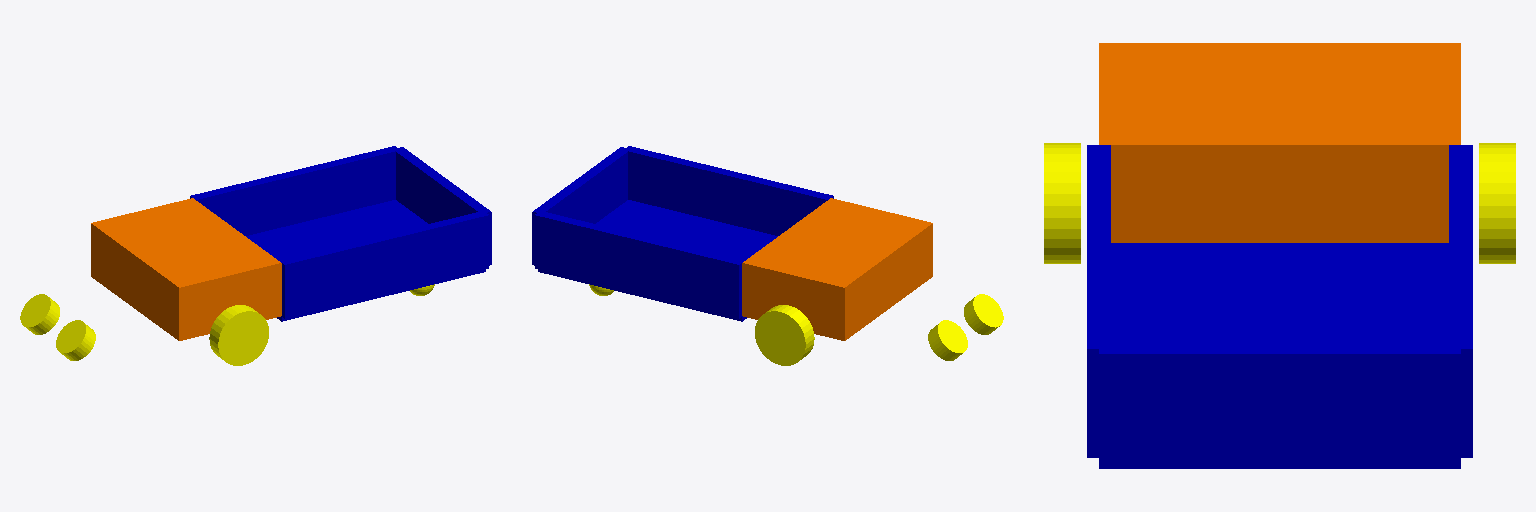
The robot description file, URDF, robot "TRR":
<robot name="TRR">

<!-- ===============================Color============================ -->
  <!-- Orange-->
  <material name="orange">
  <color rgba="1.0 0.5 0.0 1.0"/>
  </material>

  <!-- Blue--> 
  <material name="blue">
    <color rgba="0 0 0.8 1"/>
  </material>

  <!-- Yellow-->
  <material name="yellow">
    <color rgba="1 1 0 1"/>
  </material>

<!-- ===============================Component============================ -->
  <!-- Than -->
  <link name="base_link">
  </link>

  <!-- Khung -->
  <link name="frame_link">
    <visual>
      <geometry>
        <box size="0.2 0.3 0.1"/>
      </geometry>
      <origin xyz="0 0 0" rpy="0.0 0.0 0.0"/>
      <material name="orange"/>
    </visual>
    <inertial>
        <mass value="2.0"/>
        <origin xyz="0.0 0.0 0.0"/>
        <inertia ixx="0.0" ixy="0.0" ixz="0.0" iyy="0.0" iyz="0.0" izz="0.0"/>
    </inertial>
    <collision>
      <geometry>
        <box size="0.2 0.3 0.1"/>
      </geometry>
      <origin xyz="0 0 0" rpy="0.0 0.0 0.0"/>
    </collision>
  </link>

  <!-- Khop noi than - khung -->
  <joint name="base_joint" type="fixed">
      <parent link="base_link"/>
      <child link="frame_link"/>
      <origin xyz="0.0 0.0 0.0" rpy="0.0 0.0 0.0"/>
  </joint>

  <!-- Banh phai truoc-->
  <link name="right_front_wheel_link">
    <visual>
      <geometry>
        <cylinder radius="0.05" length="0.03"/>
      </geometry>
      <origin rpy="0 0 0" xyz="0 0 0"/>
      <material name="yellow"/>
    </visual>
    <inertial>
        <mass value="2.0"/>
        <origin xyz="0.0 0.0 0.0"/>
        <inertia ixx="0.1" ixy="0.0" ixz="0.0" iyy="0.1" iyz="0.0" izz="0.1"/>
    </inertial>
    <collision>
      <geometry>
        <cylinder radius="0.05" length="0.03"/>
      </geometry>
      <origin rpy="0 0 0" xyz="0 0 0"/>
    </collision>
  </link>

  <!-- Khop noi than - banh phai truoc -->
  <joint name="right_front_wheel_joint" type="continuous">
    <parent link="base_link"/>
    <child link="right_front_wheel_link"/>
    <origin rpy="0 1.57075 1.57075" xyz="0 0.18 -0.05"/>
    <axis xyz="0.0 0.0 1.0"/>
  </joint>

  <!-- Banh trai truoc-->
    <link name="left_front_wheel_link">
    <visual>
      <geometry>
        <cylinder radius="0.05" length="0.03"/>
      </geometry>
      <origin rpy="0 0 0" xyz="0 0 0"/>
      <material name="yellow"/>
    </visual>
    <inertial>
        <mass value="5.0"/>
        <origin xyz="0.0 0.0 0.0"/>
        <inertia ixx="0.1" ixy="0.0" ixz="0.0" iyy="0.1" iyz="0.0" izz="0.1"/>
    </inertial>
    <collision>
      <geometry>
        <cylinder radius="0.05" length="0.03"/>
      </geometry>
      <origin rpy="0 0 0" xyz="0 0 0"/>
    </collision>
  </link>

  <!-- Khop noi than - banh trai truoc -->
  <joint name="left_front_wheel_joint" type="continuous">
    <parent link="base_link"/>
    <child link="left_front_wheel_link"/>
    <origin rpy="3.1415 1.57075 1.57075" xyz="0 -0.18 -0.05"/>
    <axis xyz="0.0 0.0 1.0"/>
  </joint>

  <!-- Banh ban phai-->
  <link name="right_shoot_wheel_link">
    <visual>
      <geometry>
        <cylinder radius="0.0325" length="0.027"/>
      </geometry>
      <origin rpy="0 0 0" xyz="0 0 0"/>
      <material name="yellow"/>
    </visual>
    <inertial>
        <mass value="0.2"/>
        <origin xyz="0.0 0.0 0.0"/>
        <inertia ixx="0.1" ixy="0.0" ixz="0.0" iyy="0.1" iyz="0.0" izz="0.1"/>
    </inertial>
    <collision>
      <geometry>
        <cylinder radius="0.0325" length="0.027"/>
      </geometry>
      <origin rpy="0 0 0" xyz="0 0 0"/>
    </collision>
  </link>

    <!-- Khop noi than - banh ban phai-->
  <joint name="right_shoot_wheel_joint" type="continuous">
    <parent link="base_link"/>
    <child link="right_shoot_wheel_link"/>
    <origin rpy="0 -0.785375 0" xyz="-0.25 0.06 -0.05"/>
    <axis xyz="0.0 0.0 1.0"/>
  </joint>

  <!-- Banh ban trai-->
  <link name="left_shoot_wheel_link">
    <visual>
      <geometry>
        <cylinder radius="0.0325" length="0.027"/>
      </geometry>
      <origin rpy="0 0 0" xyz="0 0 0"/>
      <material name="yellow"/>
    </visual>
    <inertial>
        <mass value="0.2"/>
        <origin xyz="0.0 0.0 0.0"/>
        <inertia ixx="0.1" ixy="0.0" ixz="0.0" iyy="0.1" iyz="0.0" izz="0.1"/>
    </inertial>
    <collision>
      <geometry>
        <cylinder radius="0.0325" length="0.027"/>
      </geometry>
      <origin rpy="0 0 0" xyz="0 0 0"/>
    </collision>
  </link>

  <!-- Khop noi than - banh ban trai -->
  <joint name="left_shoot_wheel_joint" type="continuous">
    <parent link="base_link"/>
    <child link="left_shoot_wheel_link"/>
    <origin rpy="3.1415 -0.785375 0" xyz="-0.25 -0.06 -0.05"/>
    <axis xyz="0.0 0.0 1.0"/>
  </joint>

  <!-- De sau -->
  <link name="back_base_link">
    <visual>
      <geometry>
        <box size="0.4 0.3 0.02"/>
      </geometry>
      <origin rpy="0 0 0" xyz="0.3 0 -0.05"/>
      <material name="blue"/>
    </visual>
    <inertial>
        <mass value="5"/>
        <origin xyz="0.0 0.0 0.0"/>
        <inertia ixx="0.1" ixy="0" ixz="0" iyy="0.1" iyz="0" izz="0.1"/>
    </inertial>
    <collision>
      <geometry>
        <box size="0.4 0.3 0.02"/>
      </geometry>
      <origin rpy="0 0 0" xyz="0.3 0 -0.05"/>
    </collision>
  </link>

  <!-- Khop noi than - de sau -->
  <joint name="back_base_joint" type="fixed">
    <parent link="base_link"/>
    <child link="back_base_link"/>
  </joint>

    <!-- Canh 1 de sau -->
  <link name="back_base_edge_1_link">
    <visual>
      <geometry>
        <box size="0.1 0.3 0.02"/>
      </geometry>
      <origin rpy="0 1.57075 0" xyz="0.5 0 0.0"/>
      <material name="blue"/>
    </visual>
    <inertial>
        <mass value="5"/>
        <origin xyz="0.0 0.0 0.0"/>
        <inertia ixx="0.1" ixy="0" ixz="0" iyy="0.1" iyz="0" izz="0.1"/>
    </inertial>
    <collision>
      <geometry>
        <box size="0.1 0.3 0.02"/>
      </geometry>
      <origin rpy="0 1.57075 0" xyz="0.5 0 0.0"/>
    </collision>
  </link>

  <!-- Khop noi than - canh 1 de sau -->
  <joint name="back_base_edge_1_joint" type="fixed">
    <parent link="back_base_link"/>
    <child link="back_base_edge_1_link"/>
  </joint>

      <!-- Canh 2 de sau -->
  <link name="back_base_edge_2_link">
    <visual>
      <geometry>
        <box size="0.4 0.1 0.02"/>
      </geometry>
      <origin rpy="1.57075 0 0" xyz="0.3 0.15 0.0"/>
      <material name="blue"/>
    </visual>
    <inertial>
        <mass value="5"/>
        <origin xyz="0.0 0.0 0.0"/>
        <inertia ixx="0.1" ixy="0" ixz="0" iyy="0.1" iyz="0" izz="0.1"/>
    </inertial>
    <collision>
      <geometry>
        <box size="0.4 0.1 0.02"/>
      </geometry>
      <origin rpy="1.57075 0 0" xyz="0.3 0.15 0.0"/>
    </collision>
  </link>

  <!-- Khop noi than - canh 2 de sau -->
  <joint name="back_base_edge_2_joint" type="fixed">
    <parent link="back_base_link"/>
    <child link="back_base_edge_2_link"/>
  </joint>

      <!-- Canh 3 de sau -->
  <link name="back_base_edge_3_link">
    <visual>
      <geometry>
        <box size="0.4 0.1 0.02"/>
      </geometry>
      <origin rpy="1.57075 0 0" xyz="0.3 -0.15 0.0"/>
      <material name="blue"/>
    </visual>
    <inertial>
        <mass value="5"/>
        <origin xyz="0.0 0.0 0.0"/>
        <inertia ixx="0.1" ixy="0" ixz="0" iyy="0.1" iyz="0" izz="0.1"/>
    </inertial>
    <collision>
      <geometry>
        <box size="0.4 0.1 0.02"/>
      </geometry>
      <origin rpy="1.57075 0 0" xyz="0.3 -0.15 0.0"/>
    </collision>
  </link>

  <!-- Khop noi than - canh 3 de sau -->
  <joint name="back_base_edge_3_joint" type="fixed">
    <parent link="back_base_link"/>
    <child link="back_base_edge_3_link"/>
  </joint>

  <!-- Banh mat trau sau phai-->
  <link name="right_back_caster_wheel_link">
    <visual>
      <geometry>
        <sphere radius="0.025"/>
      </geometry>
      <origin rpy="0 0 0" xyz="0 0 0"/>
      <material name="yellow"/>
    </visual>
    <inertial>
        <mass value="1"/>
        <origin xyz="0.0 0.0 0.0"/>
        <inertia ixx="1e-6" ixy="0" ixz="0" iyy="1e-6" iyz="0" izz="1e-6"/>
    </inertial>
    <collision>
      <geometry>
        <sphere radius="0.025"/>
      </geometry>
      <origin rpy="0 0 0" xyz="0 0 0"/>
    </collision>
  </link>

  <!-- Khop noi de sau - banh mat trau sau phai -->
  <joint name="right_back_caster_wheel_joint" type="continuous">
    <parent link="back_base_link"/>
    <child link="right_back_caster_wheel_link"/>
    <origin rpy="0 0 0" xyz="0.4 0.1 -0.075"/>
    <axis xyz="1.0 1.0 1.0"/>
  </joint>

  <!-- Banh mat trau sau trai-->
  <link name="left_back_caster_wheel_link">
    <visual>
      <geometry>
        <sphere radius="0.025"/>
      </geometry>
      <origin rpy="0 0 0" xyz="0 0 0"/>
      <material name="yellow"/>
    </visual>
    <inertial>
        <mass value="1"/>
        <origin xyz="0.0 0.0 0.0"/>
        <inertia ixx="1e-6" ixy="0" ixz="0" iyy="1e-6" iyz="0" izz="1e-6"/>
    </inertial>
    <collision>
      <geometry>
        <sphere radius="0.025"/>
      </geometry>
      <origin rpy="0 0 0" xyz="0 0 0"/>
    </collision>
  </link>

  <!-- Khop noi de sau - banh mat trau sau trai -->
  <joint name="left_back_caster_wheel_joint" type="continuous">
    <parent link="back_base_link"/>
    <child link="left_back_caster_wheel_link"/>
    <origin rpy="3.1415 0 0" xyz="0.4 -0.1 -0.075"/>
    <axis xyz="1.0 1.0 1.0"/>
  </joint>

<!-- ===============================Transmission============================ -->
  <!-- Right Front Wheel Transmission -->
  <transmission name="tran1">
      <type>transmission_interface/SimpleTransmission</type>
      <joint name="right_front_wheel_joint">
          <hardwareInterface>hardware_interface/EffortJointInterface</hardwareInterface>
      </joint>
      <actuator name="motor1">
          <hardwareInterface>hardware_interface/EffortJointInterface</hardwareInterface>
          <mechanicalReduction>1</mechanicalReduction>
      </actuator>
  </transmission>

  <!-- Left Front Wheel Transmission -->
  <transmission name="tran2">
      <type>transmission_interface/SimpleTransmission</type>
      <joint name="left_front_wheel_joint">
          <hardwareInterface>hardware_interface/EffortJointInterface</hardwareInterface>
      </joint>
      <actuator name="motor2">
          <hardwareInterface>hardware_interface/EffortJointInterface</hardwareInterface>
          <mechanicalReduction>1</mechanicalReduction>
      </actuator>
  </transmission>

    <!-- Right Shoot Wheel Transmission -->
  <transmission name="tran3">
      <type>transmission_interface/SimpleTransmission</type>
      <joint name="right_shoot_wheel_joint">
          <hardwareInterface>hardware_interface/EffortJointInterface</hardwareInterface>
      </joint>
      <actuator name="motor3">
          <hardwareInterface>hardware_interface/EffortJointInterface</hardwareInterface>
          <mechanicalReduction>1</mechanicalReduction>
      </actuator>
  </transmission>

  <!-- Left Shoot Wheel Transmission -->
  <transmission name="tran4">
      <type>transmission_interface/SimpleTransmission</type>
      <joint name="left_shoot_wheel_joint">
          <hardwareInterface>hardware_interface/EffortJointInterface</hardwareInterface>
      </joint>
      <actuator name="motor4">
          <hardwareInterface>hardware_interface/EffortJointInterface</hardwareInterface>
          <mechanicalReduction>1</mechanicalReduction>
      </actuator>
  </transmission>

<!-- ===============================Gazebo============================ -->
  <!-- Gazebo Visual Properties -->
  <gazebo reference="frame_link">
      <material>Gazebo/Orange</material>
  </gazebo>
  <gazebo reference="right_front_wheel_link">
      <material>Gazebo/Yellow</material>
  </gazebo>
  <gazebo reference="left_front_wheel_link">
      <material>Gazebo/Yellow</material>
  </gazebo>
  <gazebo reference="left_shoot_wheel_link">
      <material>Gazebo/Yellow</material>
  </gazebo>
  <gazebo reference="right_shoot_wheel_link">
      <material>Gazebo/Yellow</material>
  </gazebo>
  <gazebo reference="back_base_link">
      <material>Gazebo/Blue</material>
  </gazebo>
  <gazebo reference="back_base_edge_1_link">
      <material>Gazebo/Blue</material>
  </gazebo>
  <gazebo reference="back_base_edge_2_link">
      <material>Gazebo/Blue</material>
  </gazebo>
  <gazebo reference="back_base_edge_3_link">
      <material>Gazebo/Blue</material>
  </gazebo>
  <gazebo reference="right_back_caster_wheel_link">
      <material>Gazebo/Yellow</material>
  </gazebo>
  <gazebo reference="left_back_caster_wheel_link">
      <material>Gazebo/Yellow</material>
  </gazebo>


  <!-- Gazebo ROS Control Plugin -->
  <gazebo>
      <plugin name="gazebo_ros_control" filename="libgazebo_ros_control.so">
          <robotNamespace>/my_TRR</robotNamespace>
      </plugin>
  </gazebo>

</robot>

--- Facts derived from the render (not from the file) ---
The picture shows the robot from 3 angles, left to right: view 1: azimuth 30°, elevation 25°; view 2: azimuth 150°, elevation 25°; view 3: azimuth 270°, elevation 25°; orthographic projection.
Model TRR with 12 links and 11 joints (6 continuous, 5 fixed), rooted at base_link, posed all joints at 0.
Links seen in each view (by area): view 1: frame_link, back_base_edge_3_link, back_base_edge_2_link, back_base_link, back_base_edge_1_link, left_front_wheel_link, left_shoot_wheel_link, right_shoot_wheel_link; view 2: frame_link, back_base_edge_2_link, back_base_edge_3_link, back_base_link, back_base_edge_1_link, right_front_wheel_link, right_shoot_wheel_link, left_shoot_wheel_link; view 3: frame_link, back_base_edge_1_link, back_base_link, back_base_edge_2_link, back_base_edge_3_link, right_front_wheel_link, left_front_wheel_link.
Link boxes in pixels (x1,y1,x2,y2): frame_link: (91, 198, 281, 340); back_base_edge_3_link: (280, 212, 488, 318); back_base_edge_2_link: (190, 146, 399, 235); back_base_link: (246, 200, 485, 321); back_base_edge_1_link: (396, 147, 491, 265); left_front_wheel_link: (209, 305, 268, 365); left_shoot_wheel_link: (56, 320, 95, 360); right_shoot_wheel_link: (20, 294, 59, 334); frame_link: (742, 198, 932, 340); back_base_edge_2_link: (535, 211, 743, 318); back_base_edge_3_link: (627, 146, 833, 235); back_base_link: (538, 200, 777, 321); back_base_edge_1_link: (532, 147, 627, 265); right_front_wheel_link: (755, 305, 814, 365); right_shoot_wheel_link: (928, 320, 967, 360); left_shoot_wheel_link: (964, 294, 1003, 334); frame_link: (1099, 43, 1460, 242); back_base_edge_1_link: (1099, 344, 1460, 462); back_base_link: (1099, 243, 1460, 468); back_base_edge_2_link: (1449, 145, 1472, 457); back_base_edge_3_link: (1087, 145, 1110, 457); right_front_wheel_link: (1479, 143, 1515, 263); left_front_wheel_link: (1044, 143, 1080, 263).
Bounding box of the posed robot: 0.7925 × 0.39 × 0.15 m (x, y, z).
Geometry: primitives only (box / cylinder / sphere), no mesh files.